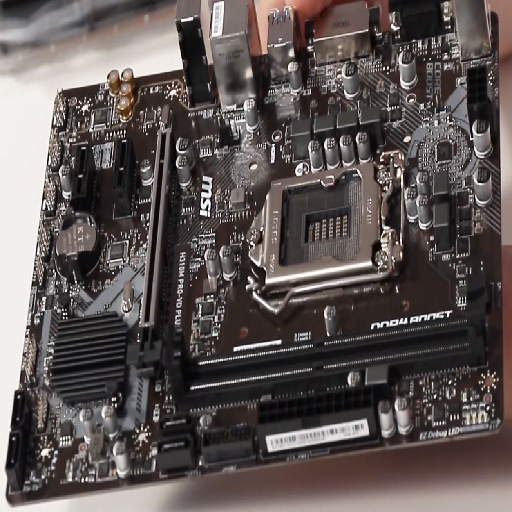CPU: (245, 149, 405, 319)
GPU: (128, 119, 175, 370)
MOTHERBOARD: (5, 9, 507, 503)
RAM: (165, 310, 491, 412)
